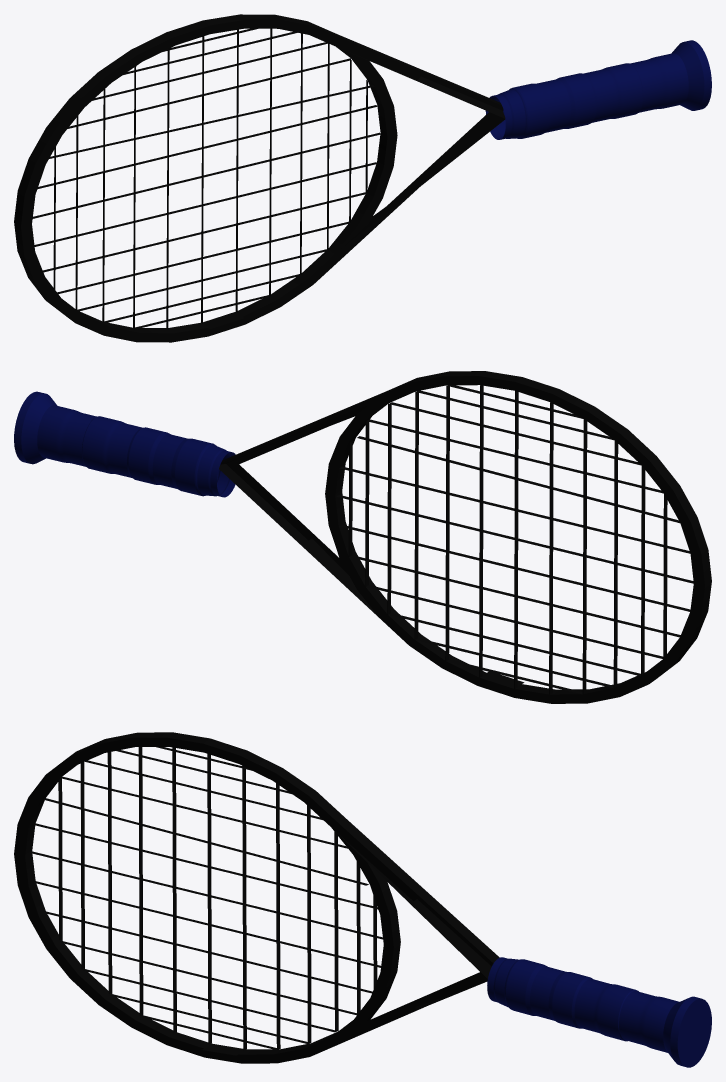
3 views of the same model, one above another, from view 1: azimuth 30°, elevation 25°; view 2: azimuth 150°, elevation 25°; view 3: azimuth 330°, elevation 25° (orthographic).
Parts seen in each view (by area): view 1: Cilindro_2; view 2: Cilindro_2; view 3: Cilindro_2.
Boxes of the visible parts, x1=… form: Cilindro_2: x1=14, y1=14, x2=711, y2=342; Cilindro_2: x1=14, y1=371, x2=711, y2=703; Cilindro_2: x1=14, y1=732, x2=711, y2=1067.
Bounding box in the file's own units: 4.55 × 2.01 × 0.3819.
